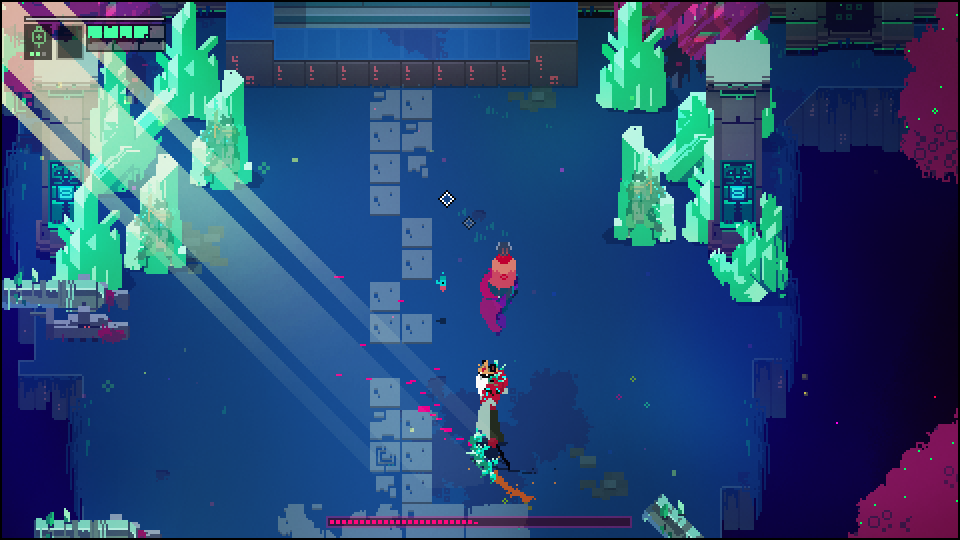hanged_man: (464, 356, 531, 487)
player: (487, 239, 524, 301)
